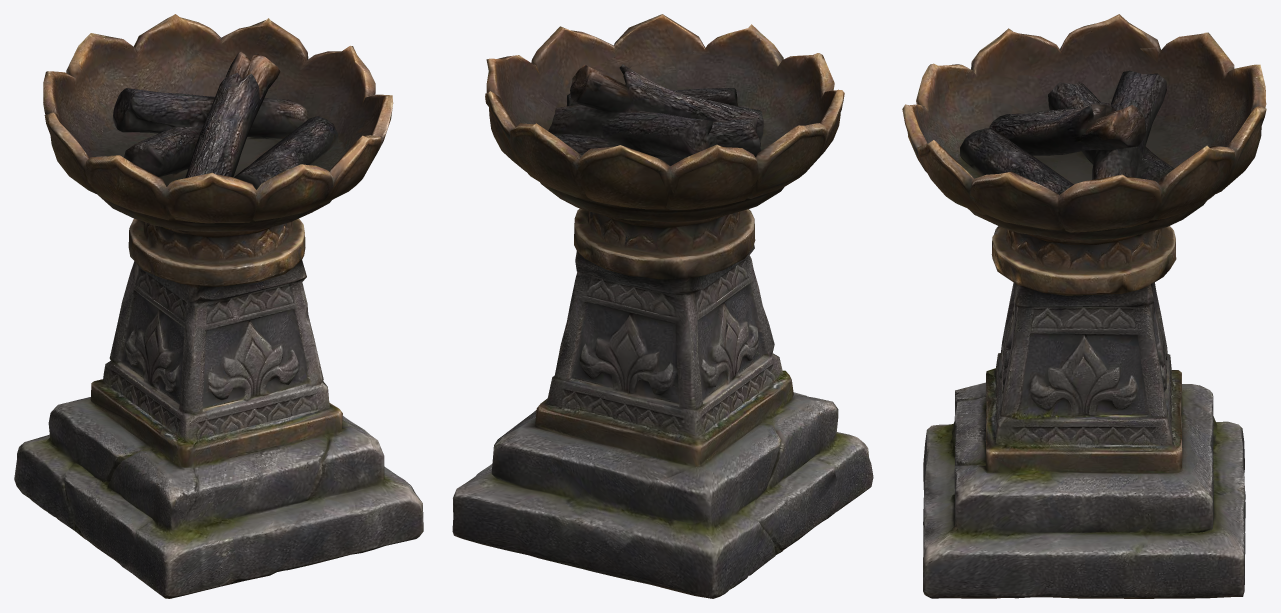
Rendered from brazier.glb.
3 views of the same model, side by side, from view 1: azimuth 30°, elevation 25°; view 2: azimuth 150°, elevation 25°; view 3: azimuth 270°, elevation 25° (orthographic). The views are drawn at different scales.
Parts seen in each view (by area): view 1: tripo_node_1632315c-72ca-4dcf-b04e-765c87eb4552; view 2: tripo_node_1632315c-72ca-4dcf-b04e-765c87eb4552; view 3: tripo_node_1632315c-72ca-4dcf-b04e-765c87eb4552.
Part boxes in pixels (box(x1,y1,x2,y2)): tripo_node_1632315c-72ca-4dcf-b04e-765c87eb4552: box(14, 14, 423, 598); tripo_node_1632315c-72ca-4dcf-b04e-765c87eb4552: box(452, 14, 873, 598); tripo_node_1632315c-72ca-4dcf-b04e-765c87eb4552: box(902, 14, 1266, 598).
Size of the model in its own units: 0.7427 by 1 by 0.7269.
Materials: 1 (1 with a texture image).
